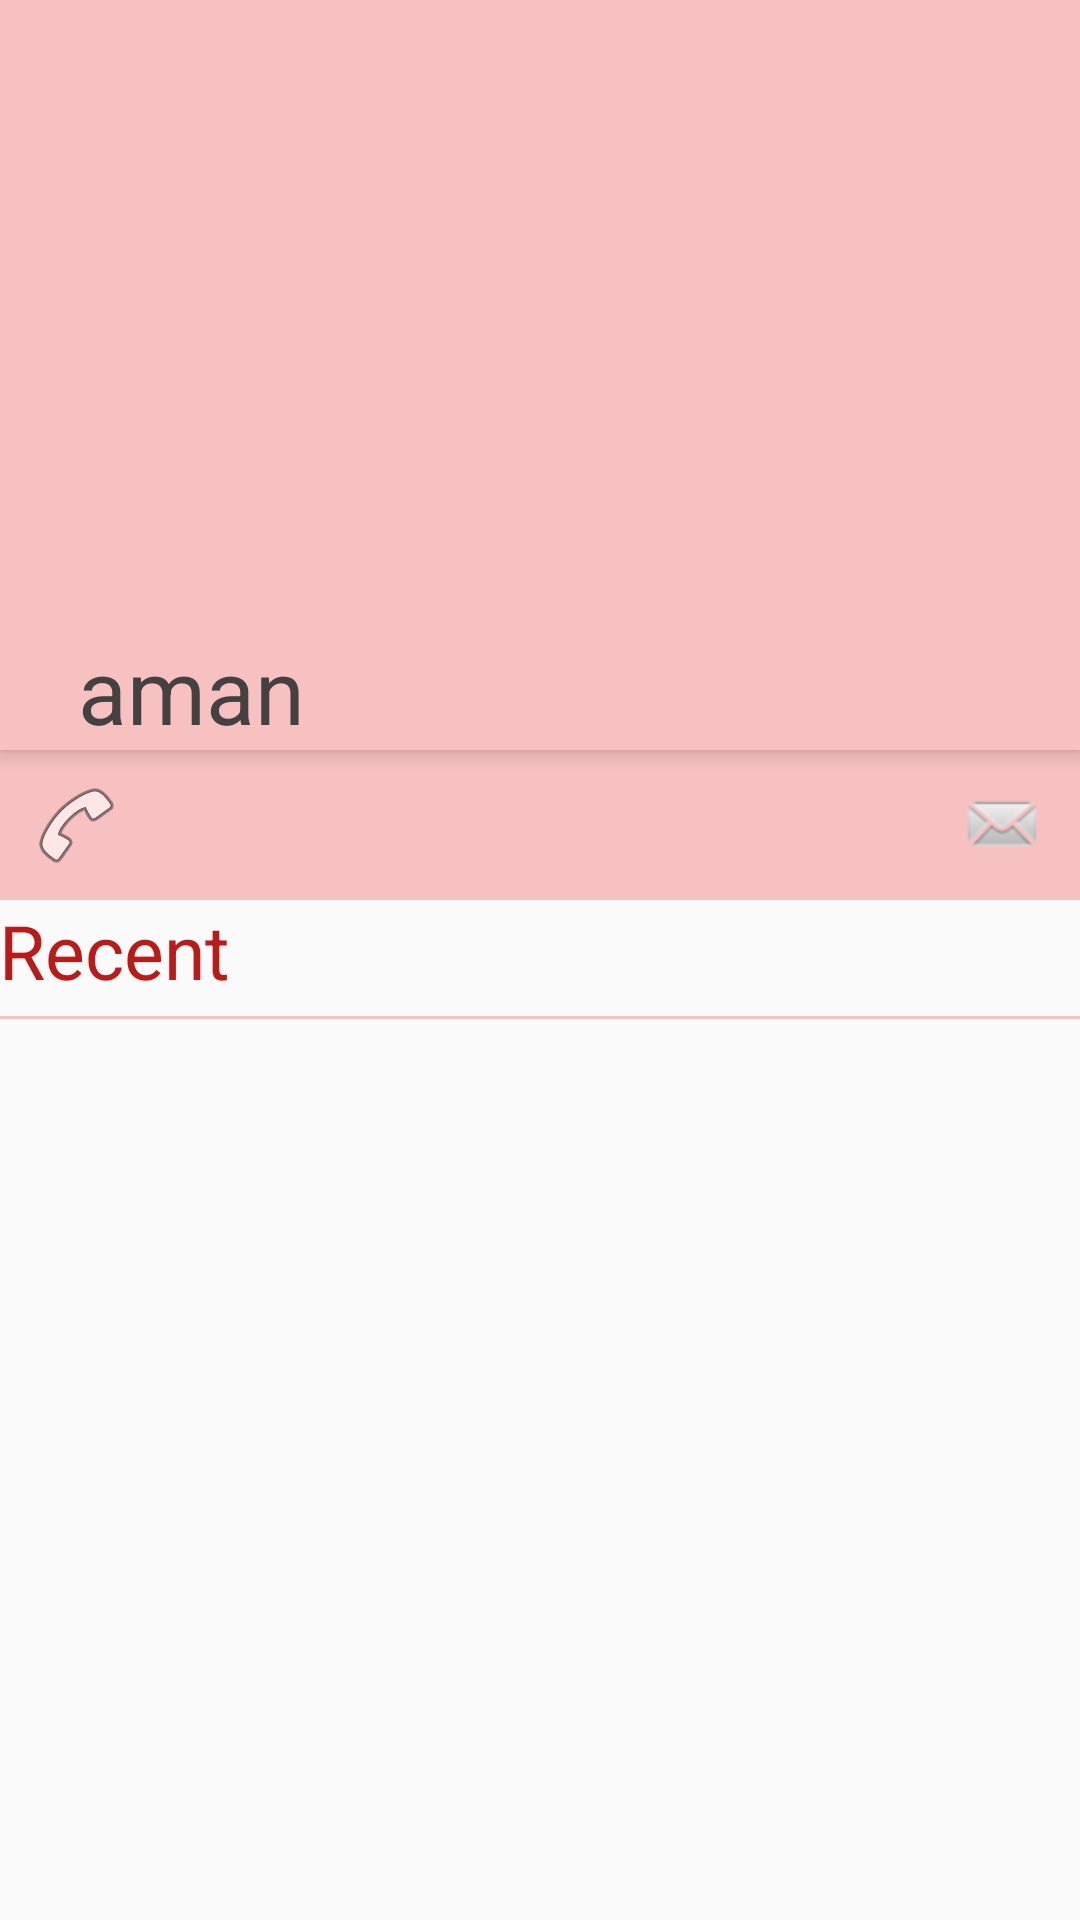

Named icons in this screenshot (1080*1920) and their bounding boxes, (x1,y1,x2,y2):
call: (39,788,114,863)
sym action email: (968,801,1036,846)
